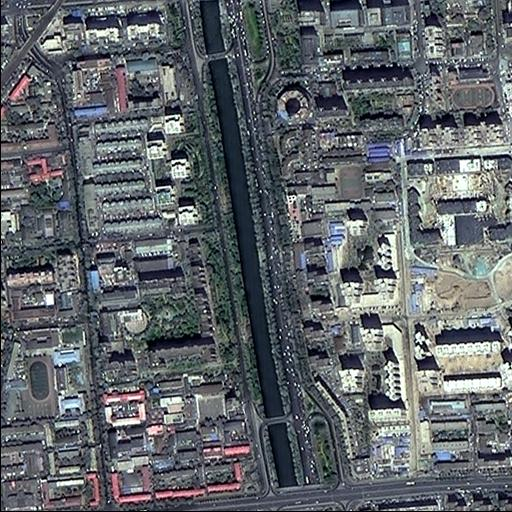school: (1, 330, 92, 420), (441, 64, 502, 116), (335, 163, 397, 205)
